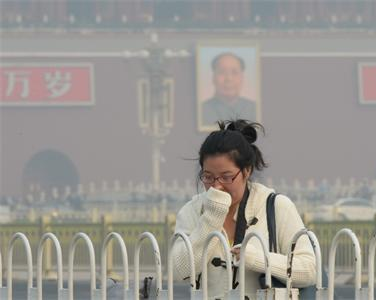person: (168, 117, 318, 300)
